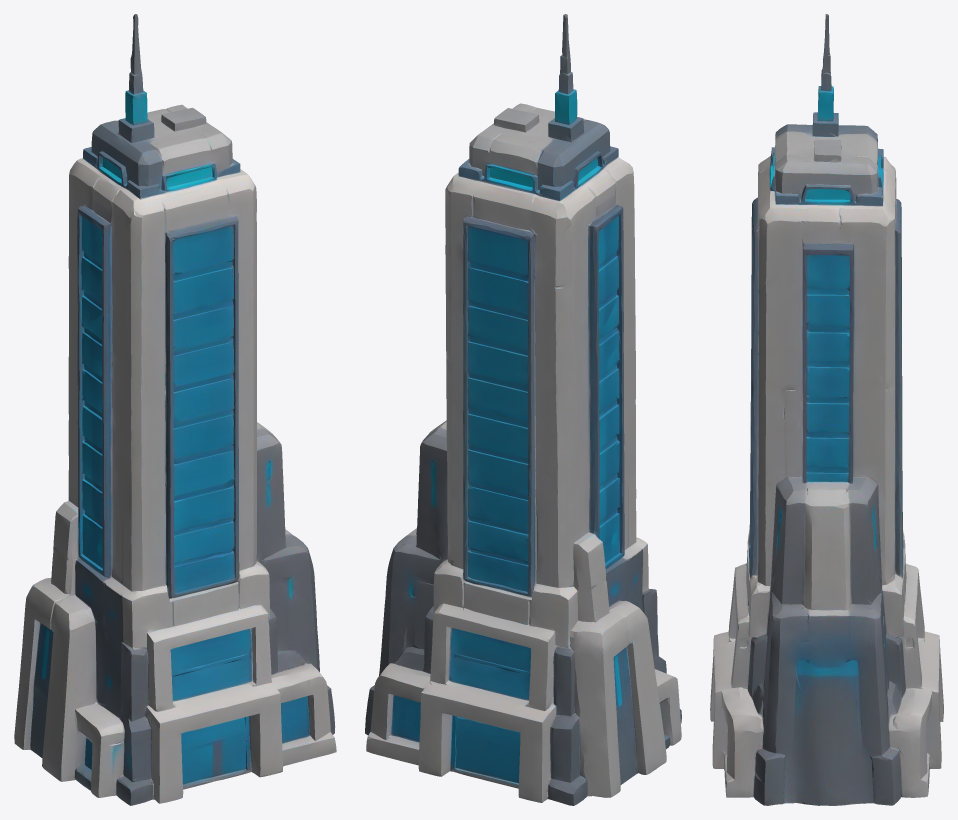
3 views of the same model, side by side, from view 1: azimuth 30°, elevation 25°; view 2: azimuth 150°, elevation 25°; view 3: azimuth 270°, elevation 25° (orthographic). The views are drawn at different scales.
Parts seen in each view (by area): view 1: Mesh; view 2: Mesh; view 3: Mesh.
Part boxes in pixels (x1,y1,x2,y2): Mesh: (14,14,336,805); Mesh: (365,14,681,805); Mesh: (710,14,943,805).
Size of the model in its own units: 0.6913 by 1.9 by 0.5649.
Materials: 1 (1 with a texture image).
